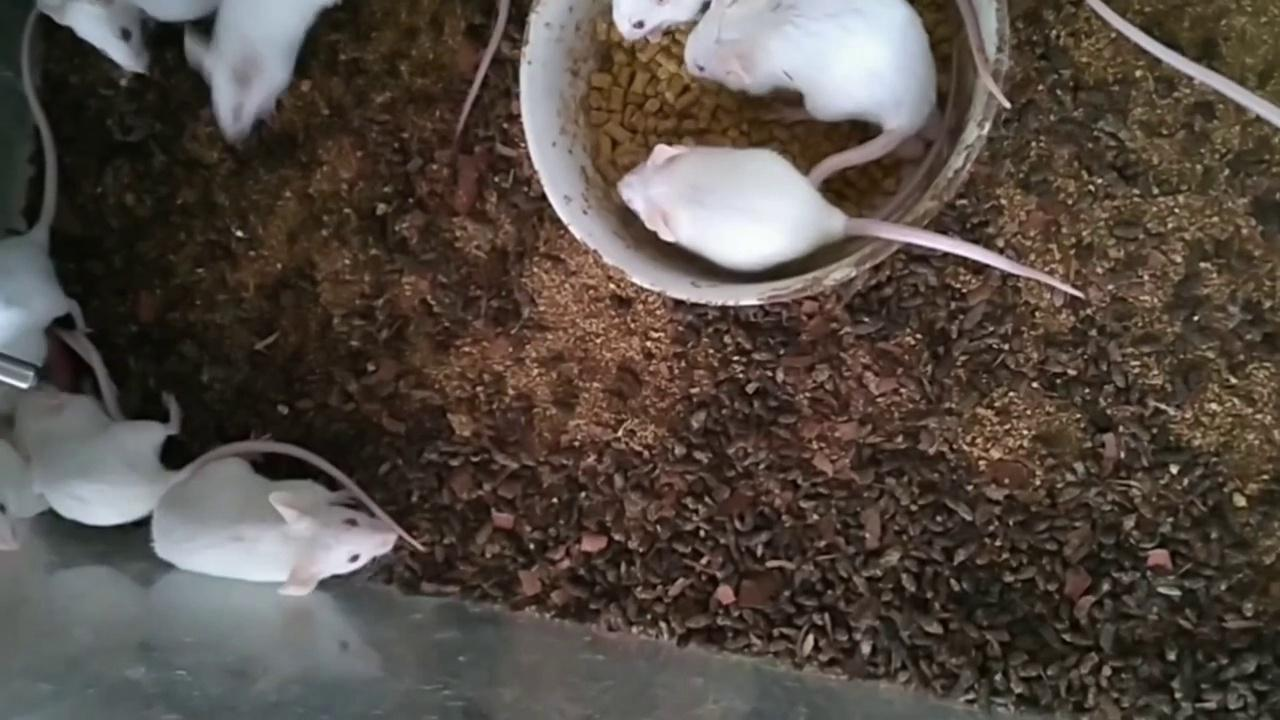rat: (596, 99, 870, 306), (145, 430, 431, 600), (678, 0, 939, 137), (14, 376, 192, 539), (181, 0, 342, 150)
